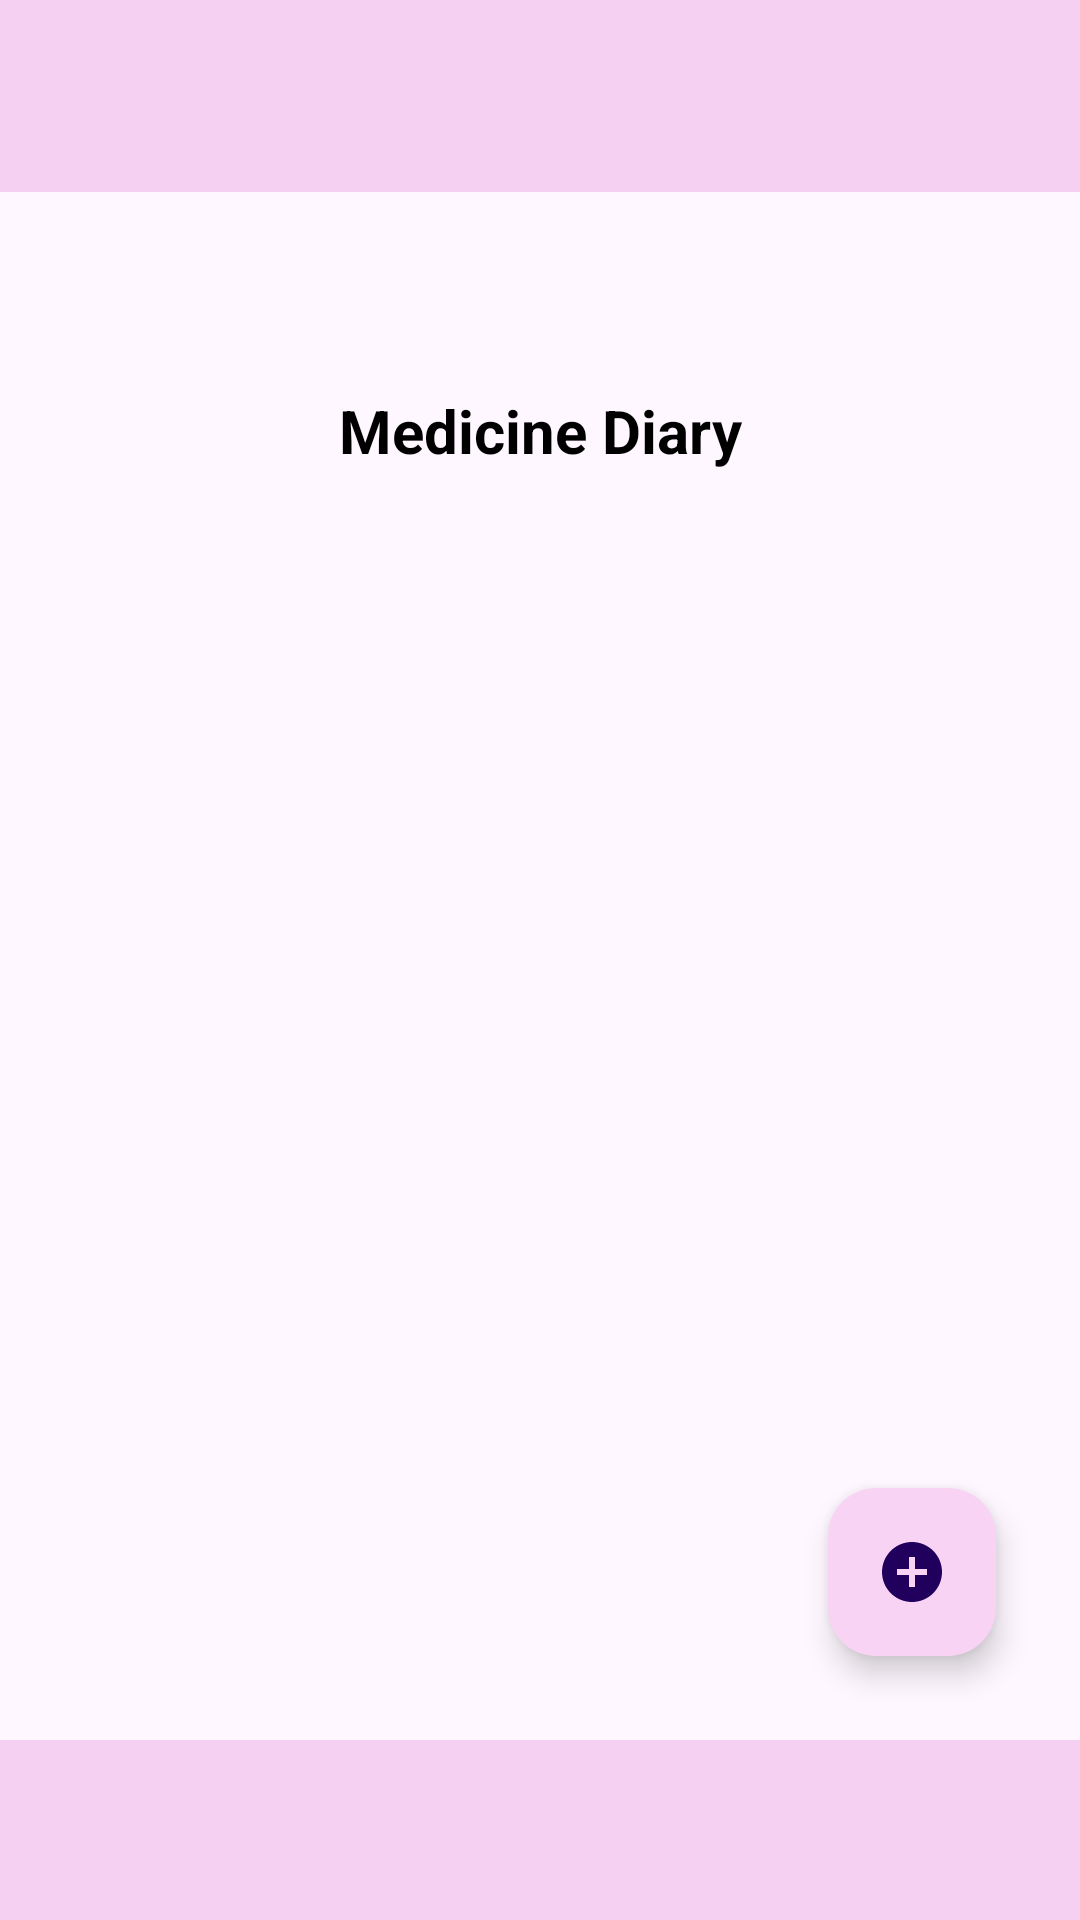

Where icons sit on this 1080px x 1920px app screen, as (x1, y1, x2, y2):
add circle: (828, 1488, 996, 1656)
